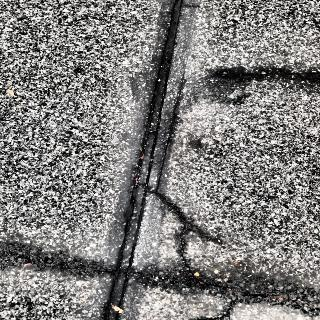crack: (89, 3, 187, 320), (189, 274, 298, 320)
